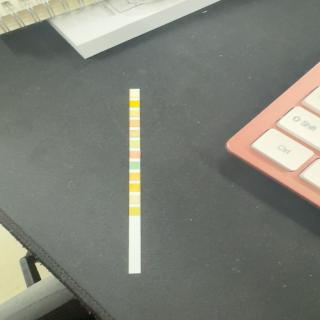mark: (129, 195, 141, 204), (130, 172, 140, 181), (129, 184, 140, 192), (130, 207, 140, 215), (130, 162, 140, 170), (130, 151, 140, 159), (130, 140, 140, 148), (130, 100, 140, 108), (129, 130, 140, 137), (129, 120, 140, 127), (130, 110, 139, 117), (130, 91, 140, 97)
